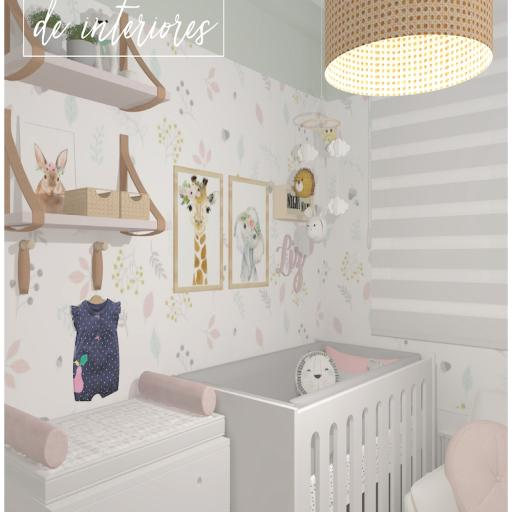crib: (181, 342, 435, 511)
